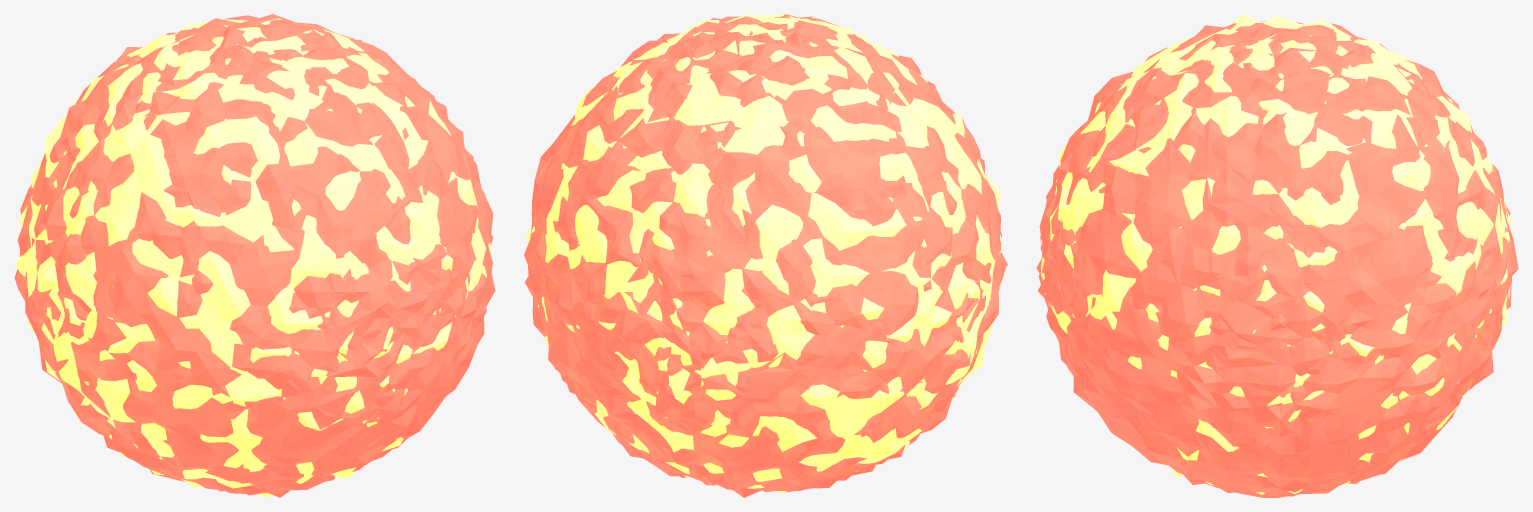
Rendered from sun.gltf.
3 renders of one model, left to right at view 1: azimuth 30°, elevation 25°; view 2: azimuth 150°, elevation 25°; view 3: azimuth 270°, elevation 25°, orthographic.
Parts seen in each view (by area): view 1: Sun1__1_Sphere_4_Sphere_41, Sun1_Sphere_36_Sphere_42_Sphere_43, Sun1_Sphere_91_Sphere_44_Sphere_49; view 2: Sun1__1_Sphere_4_Sphere_41, Sun1_Sphere_36_Sphere_42_Sphere_43, Sun1_Sphere_91_Sphere_44_Sphere_49; view 3: Sun1_Sphere_91_Sphere_44_Sphere_49, Sun1__1_Sphere_4_Sphere_41, Sun1_Sphere_36_Sphere_42_Sphere_43.
Part boxes in pixels (x1,y1,x2,y2): Sun1__1_Sphere_4_Sphere_41: (14, 15, 486, 495); Sun1_Sphere_36_Sphere_42_Sphere_43: (15, 18, 492, 497); Sun1_Sphere_91_Sphere_44_Sphere_49: (20, 14, 495, 497); Sun1__1_Sphere_4_Sphere_41: (531, 14, 1007, 492); Sun1_Sphere_36_Sphere_42_Sphere_43: (525, 14, 1003, 492); Sun1_Sphere_91_Sphere_44_Sphere_49: (524, 16, 992, 497); Sun1_Sphere_91_Sphere_44_Sphere_49: (1036, 28, 1518, 497); Sun1__1_Sphere_4_Sphere_41: (1038, 21, 1512, 496); Sun1_Sphere_36_Sphere_42_Sphere_43: (1040, 14, 1511, 494).
Bounding box in the file's own units: 0.5781 × 0.5815 × 0.5738.
